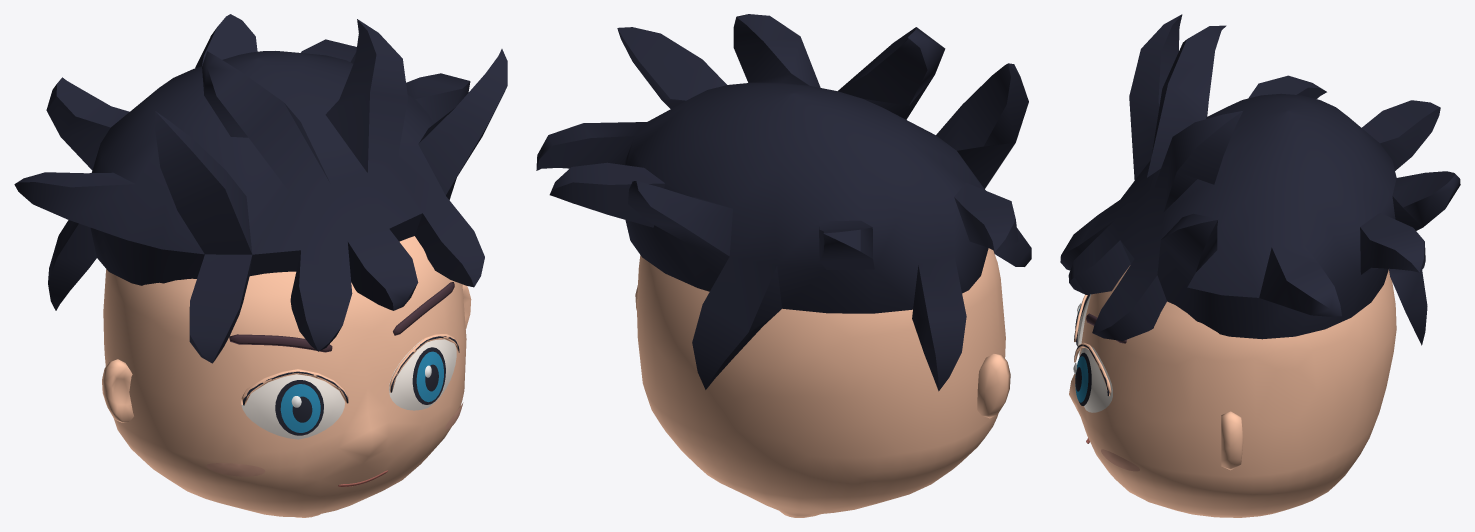
File: kairo-head-desktop.glb
3 renders of one model, left to right at view 1: azimuth 30°, elevation 25°; view 2: azimuth 150°, elevation 25°; view 3: azimuth 270°, elevation 25°, orthographic. The views are drawn at different scales.
Parts seen in each view (by area): view 1: Kairo_Hair_desktop, Kairo_Skin_desktop, Kairo_EyeWhites_desktop, Kairo_Pupils_desktop, Kairo_Iris_desktop, Kairo_FaceInk_desktop, Kairo_Blush_desktop; view 2: Kairo_Hair_desktop, Kairo_Skin_desktop; view 3: Kairo_Hair_desktop, Kairo_Skin_desktop, Kairo_EyeWhites_desktop, Kairo_Pupils_desktop.
Part boxes in pixels (x1,y1,x2,y2): Kairo_Hair_desktop: [14, 14, 507, 363]; Kairo_Skin_desktop: [102, 236, 471, 517]; Kairo_EyeWhites_desktop: [241, 339, 456, 439]; Kairo_Pupils_desktop: [243, 336, 459, 435]; Kairo_Iris_desktop: [280, 351, 443, 432]; Kairo_FaceInk_desktop: [229, 282, 454, 352]; Kairo_Blush_desktop: [206, 402, 463, 476]; Kairo_Hair_desktop: [536, 14, 1031, 391]; Kairo_Skin_desktop: [635, 248, 1010, 517]; Kairo_Hair_desktop: [1060, 14, 1460, 345]; Kairo_Skin_desktop: [1069, 265, 1396, 517]; Kairo_EyeWhites_desktop: [1077, 294, 1112, 412]; Kairo_Pupils_desktop: [1074, 294, 1109, 405].
Bounding box in the file's own units: 2.34 × 2.31 × 1.91.
